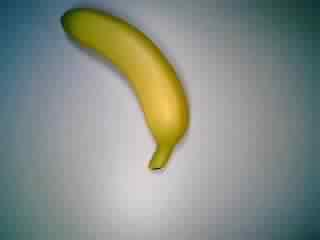banana: (55, 4, 191, 174)
